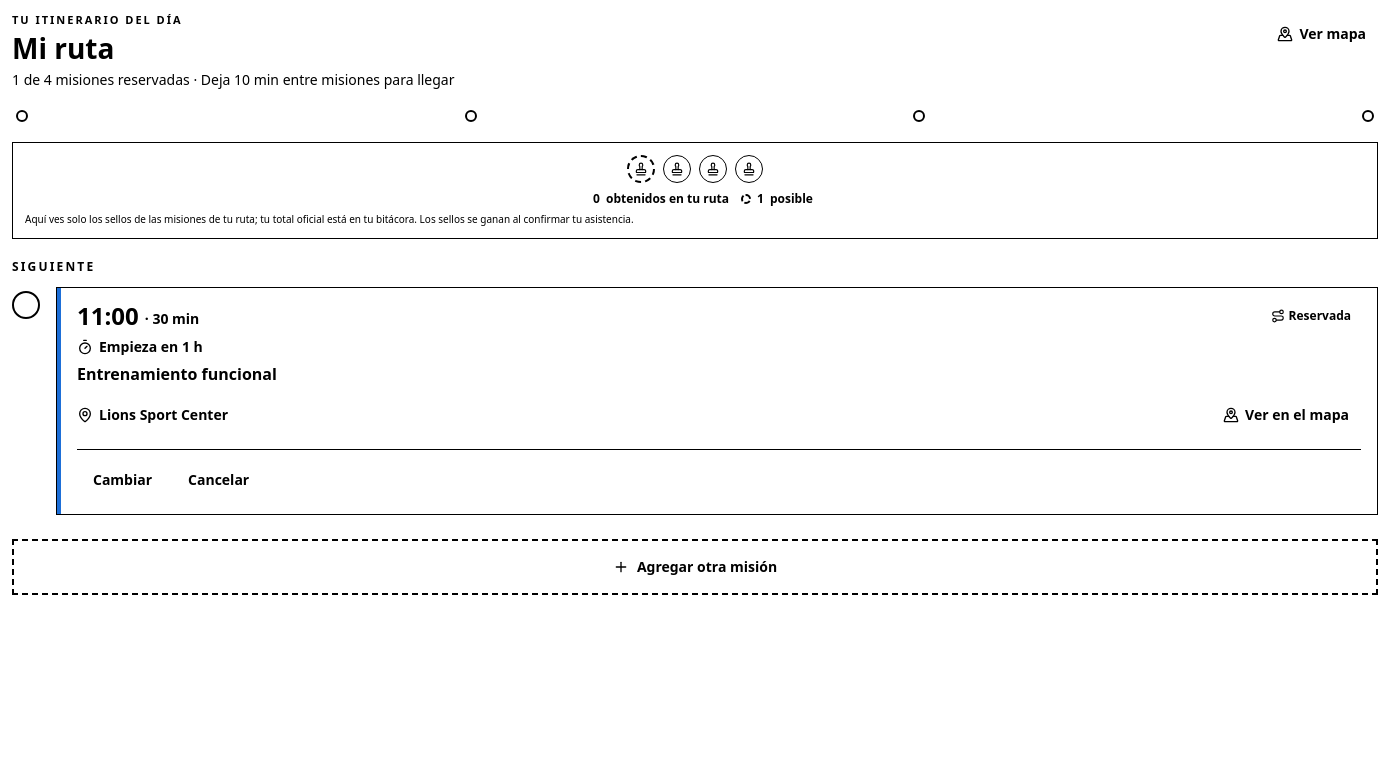
Test: Mi ruta → map: a mission at the gym is numbered on D3 and its «Ver en el mapa» points to that session
The width and height of the screenshot is (1390, 780).
Click the link with aria-label "Ver mi ruta en el mapa del campus". click: (1322,34)
box: [1277,24,1366,43]
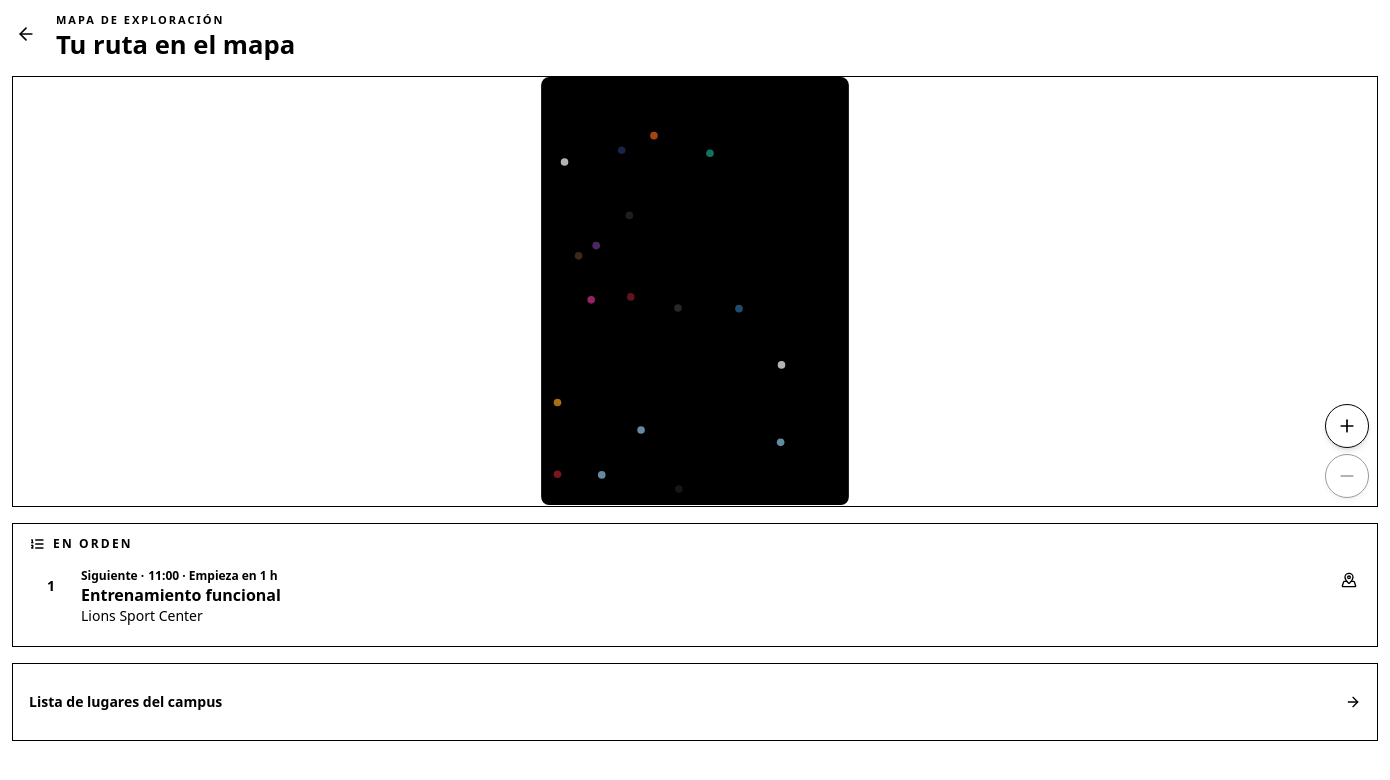
Expected: the heading "Tu ruta en el mapa" is shown, [56,28,295,60]
Expected: the button that starts with "Siguiente" shows "Lions Sport Center", [25,560,1365,634]
